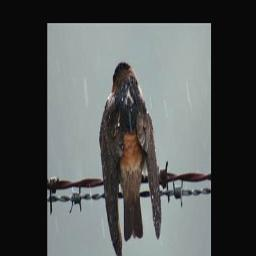Swallow: (99, 60, 163, 256)
